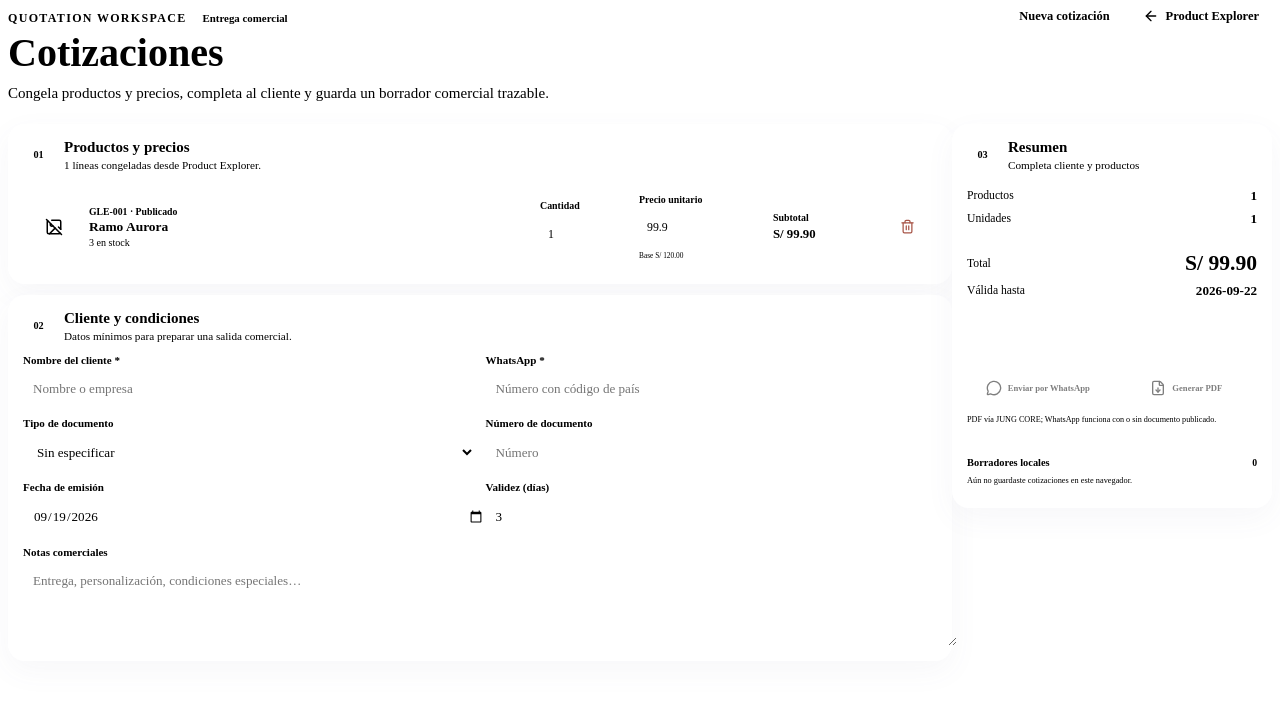
QuotationWorkspace › expone unavailable sin fabricar un enlace PDF
Check: the text "Ramo Aurora" is shown, box [89,219,168,234]
Step 1. Type "Cliente Demo" into the field labelled "Nombre del cliente *" → (259, 389), box [23,372,494,406]
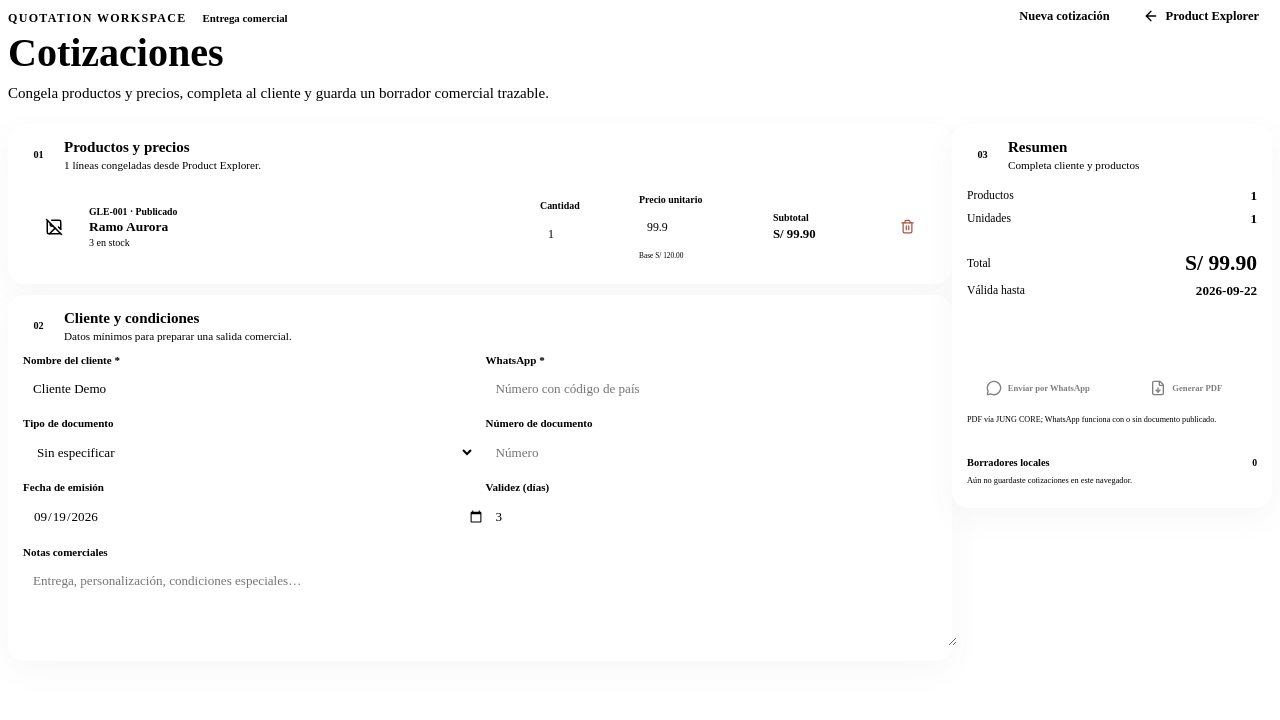
Step 2. Type "00000000" into the field labelled "WhatsApp *" → (721, 389), box [486,372,957,406]
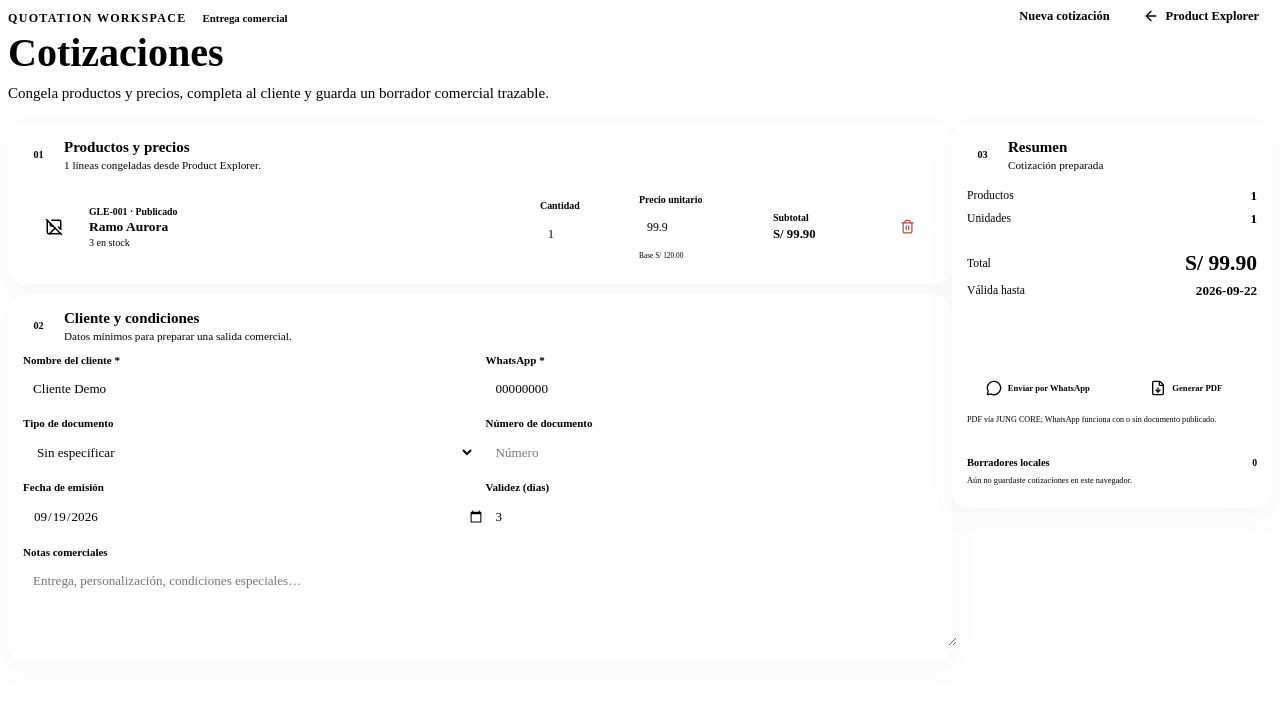
Step 3. Click the button "Generar PDF" → (1186, 388), box [1116,369,1257,407]
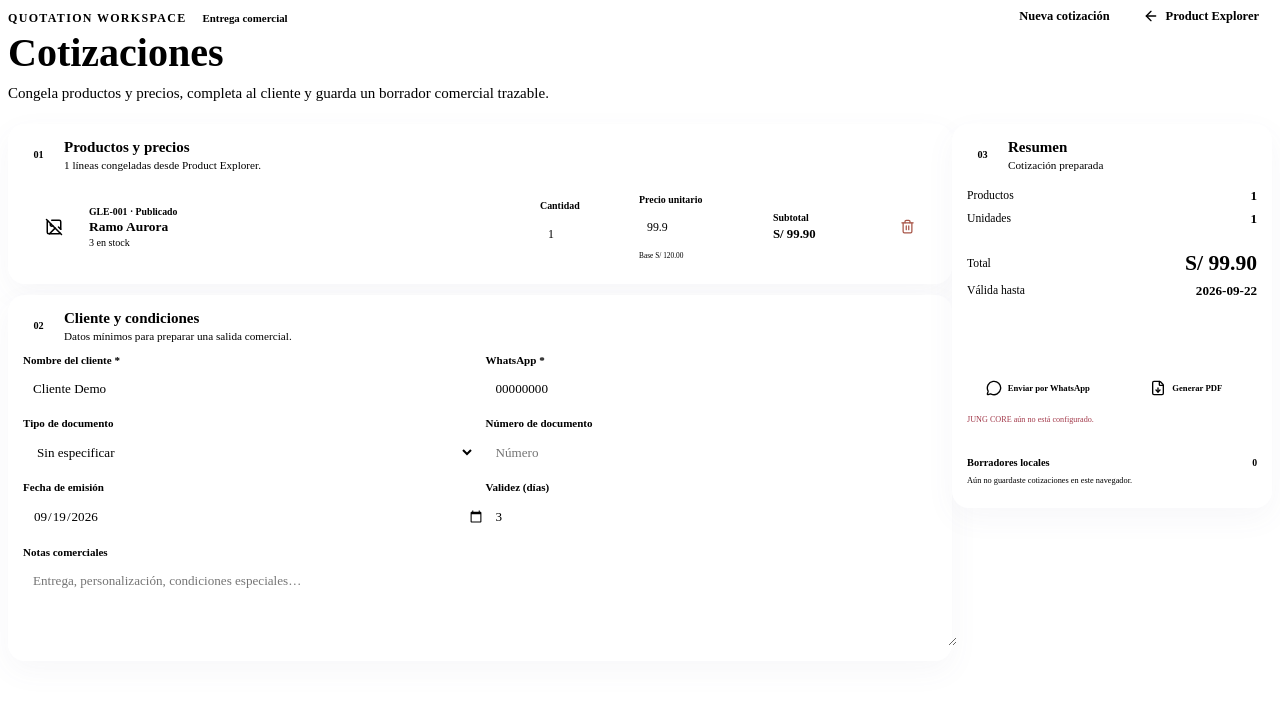
Check: the message shows "JUNG CORE aún no está configurado", box [967,415,1094,424]
